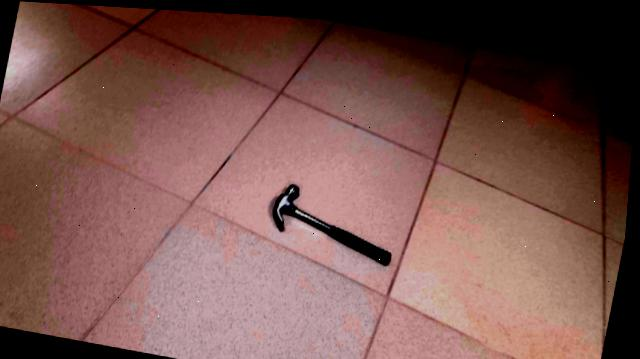hammer: (261, 167, 415, 270)
